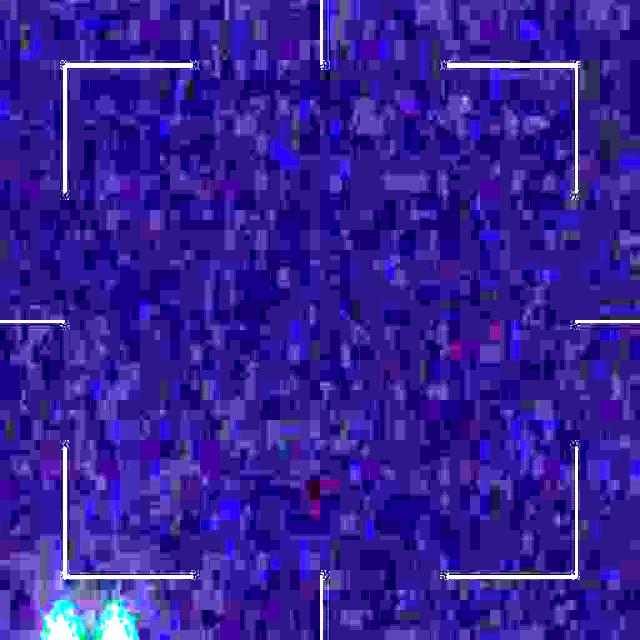bird: (44, 612, 135, 640)
